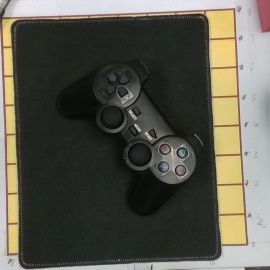remote: (54, 60, 205, 214)
